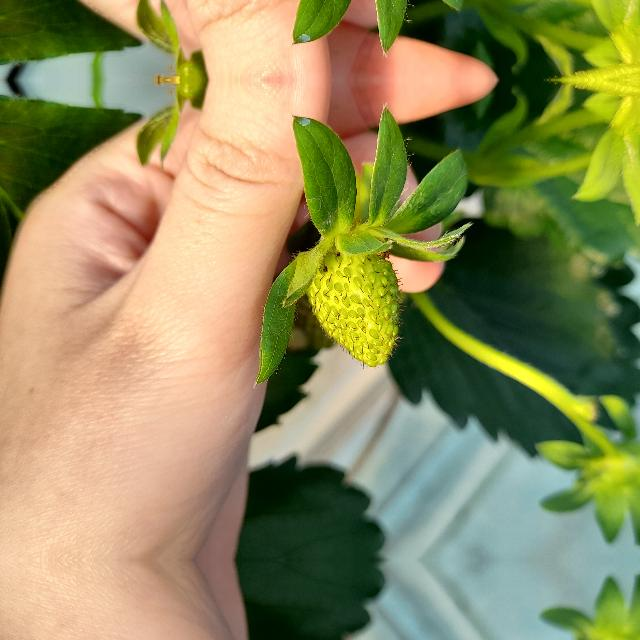Health_25: (306, 246, 406, 370)
